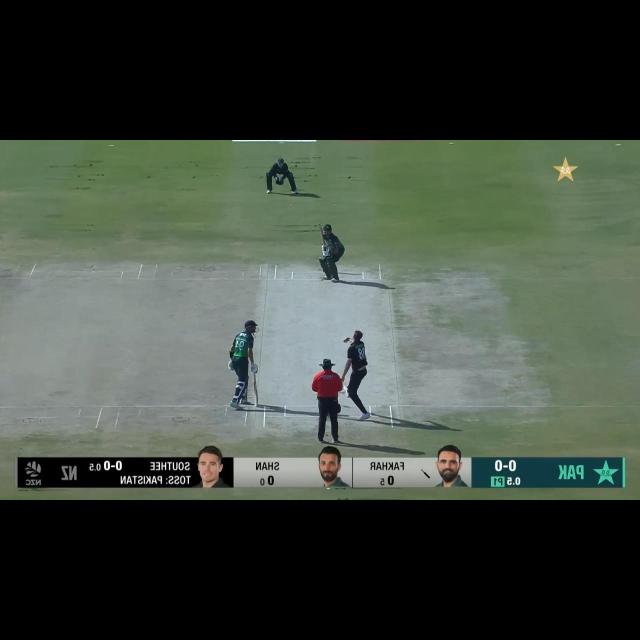bat: (251, 376, 262, 408), (316, 222, 327, 249)
toe: (253, 399, 261, 408), (317, 222, 323, 229)
